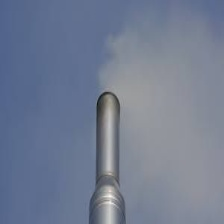smoke: (105, 35, 195, 89)
